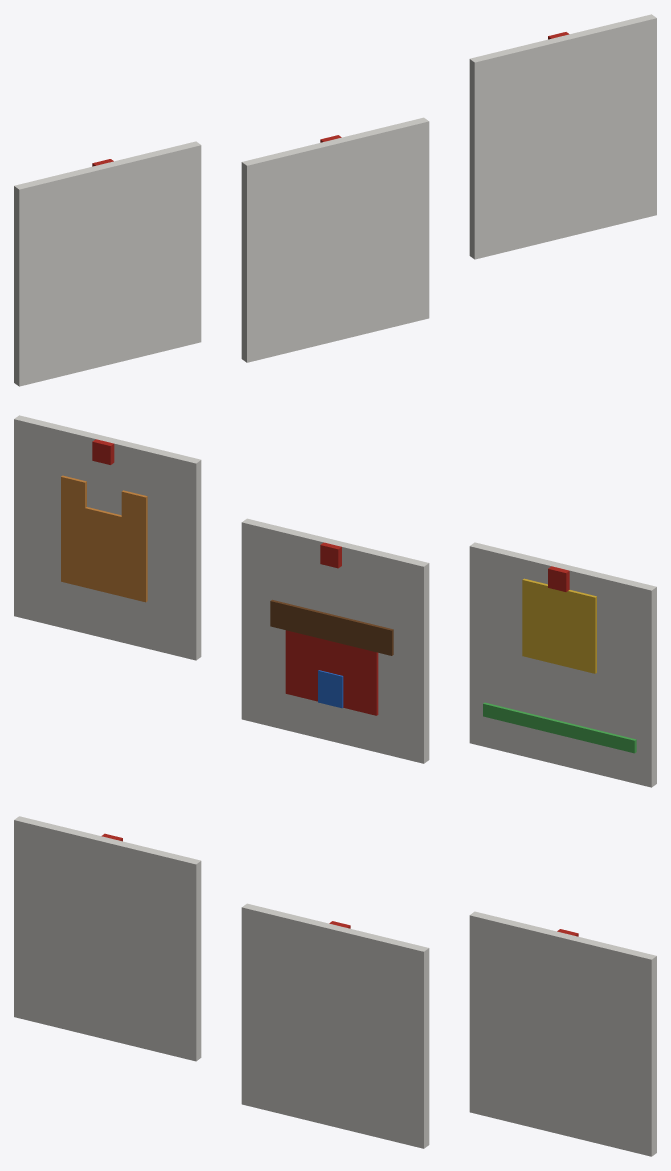
File: ncb-drawings.glb
3 renders of one model, top to bottom at view 1: azimuth 30°, elevation 25°; view 2: azimuth 150°, elevation 25°; view 3: azimuth 330°, elevation 25°, orthographic.
Parts seen in each view (by area): view 1: box-prop; view 2: box-prop; view 3: box-prop.
Part boxes in pixels (bbox=[...]): box-prop: bbox=[14, 14, 656, 386]; box-prop: bbox=[14, 415, 656, 787]; box-prop: bbox=[14, 816, 656, 1156].
Bounding box in the file's own units: 2.1 × 0.77 × 0.05.
